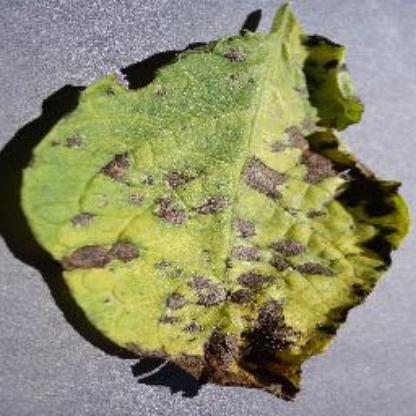Early-Blight: (22, 5, 409, 400)
